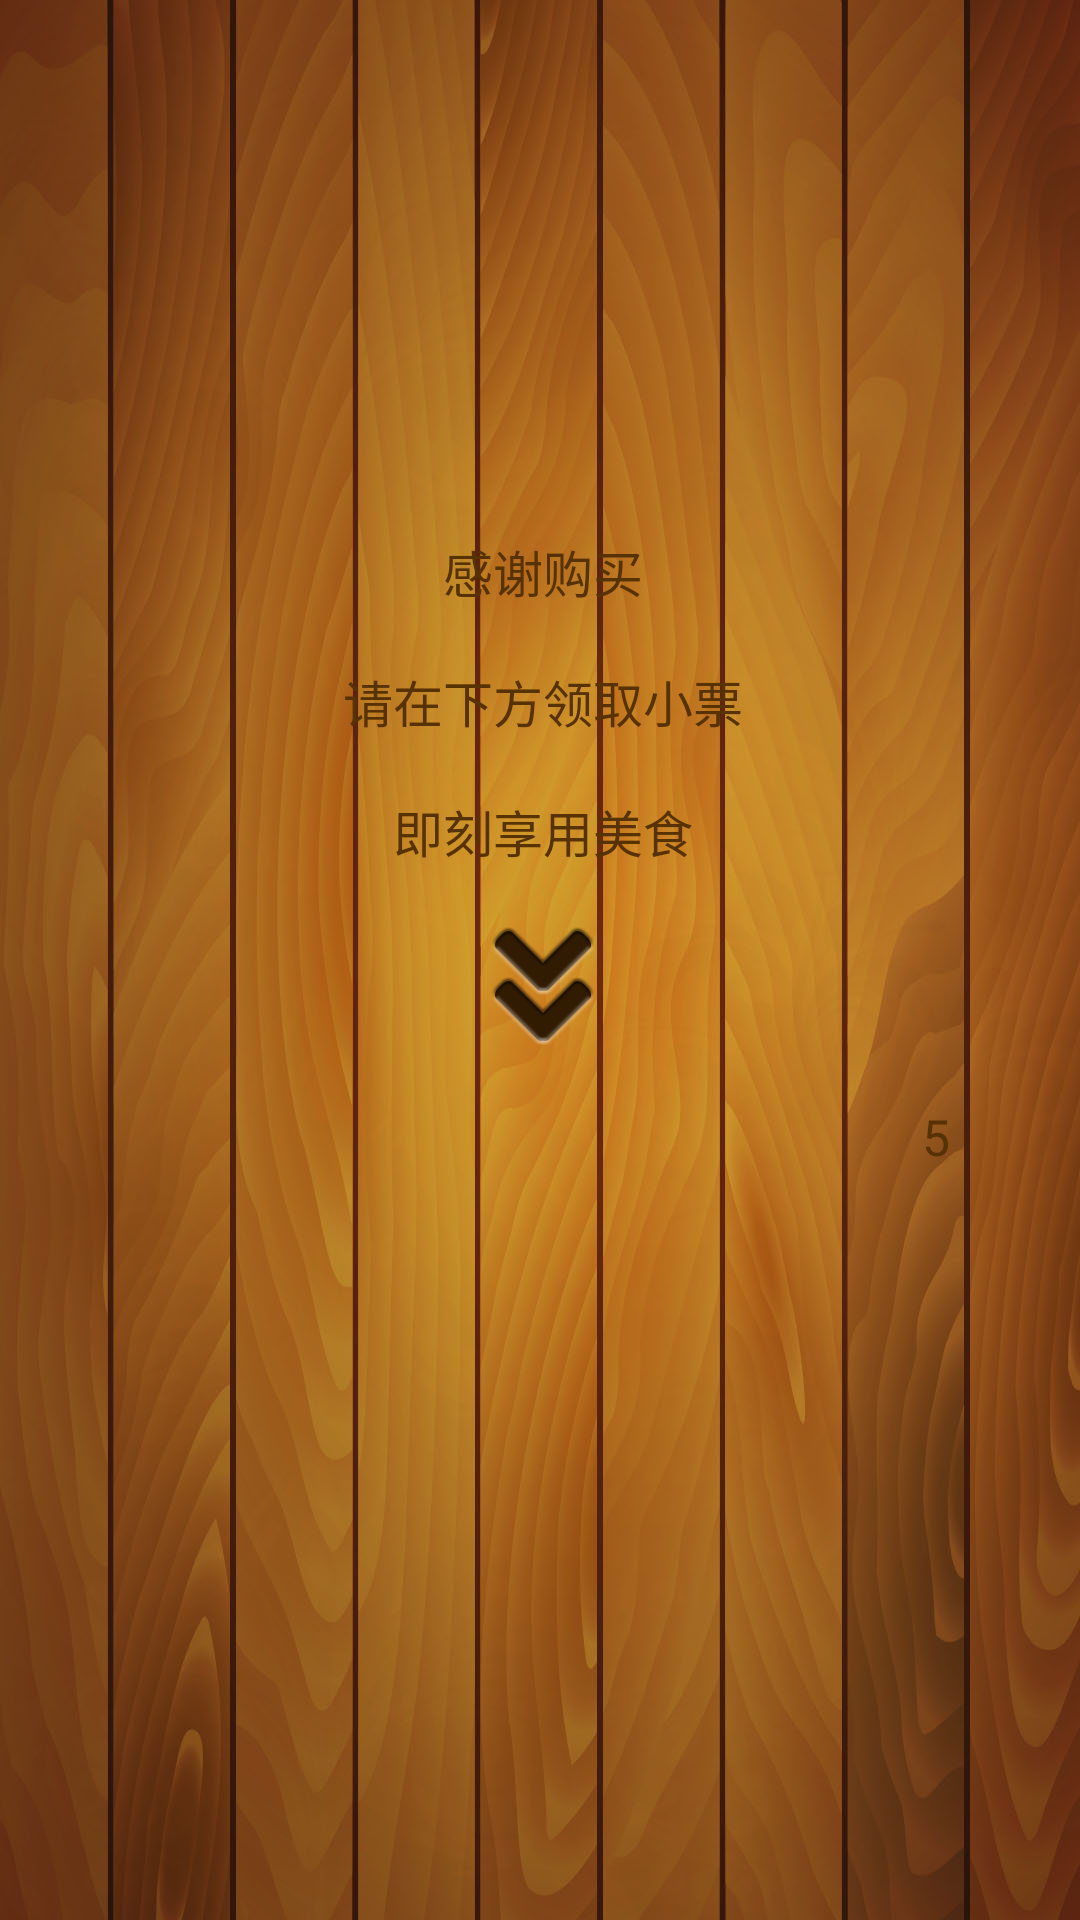

Icon bounding boxes for this 1080x1920 phone screenshot, format BBox(x1, y1, x2, y2):
payfinish arrow: BBox(493, 928, 593, 1044)
